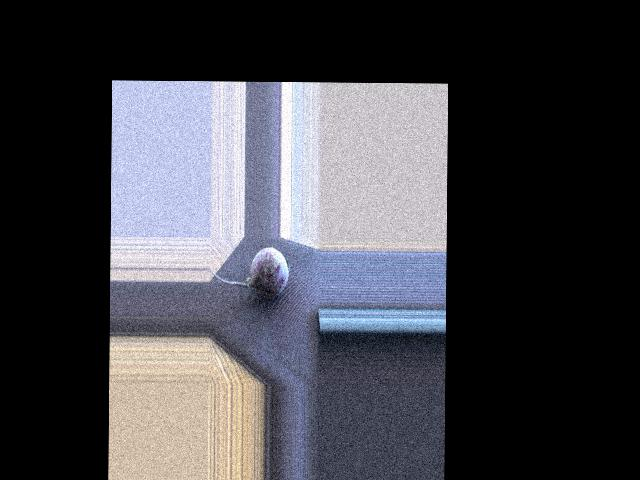beet: (209, 247, 288, 298)
